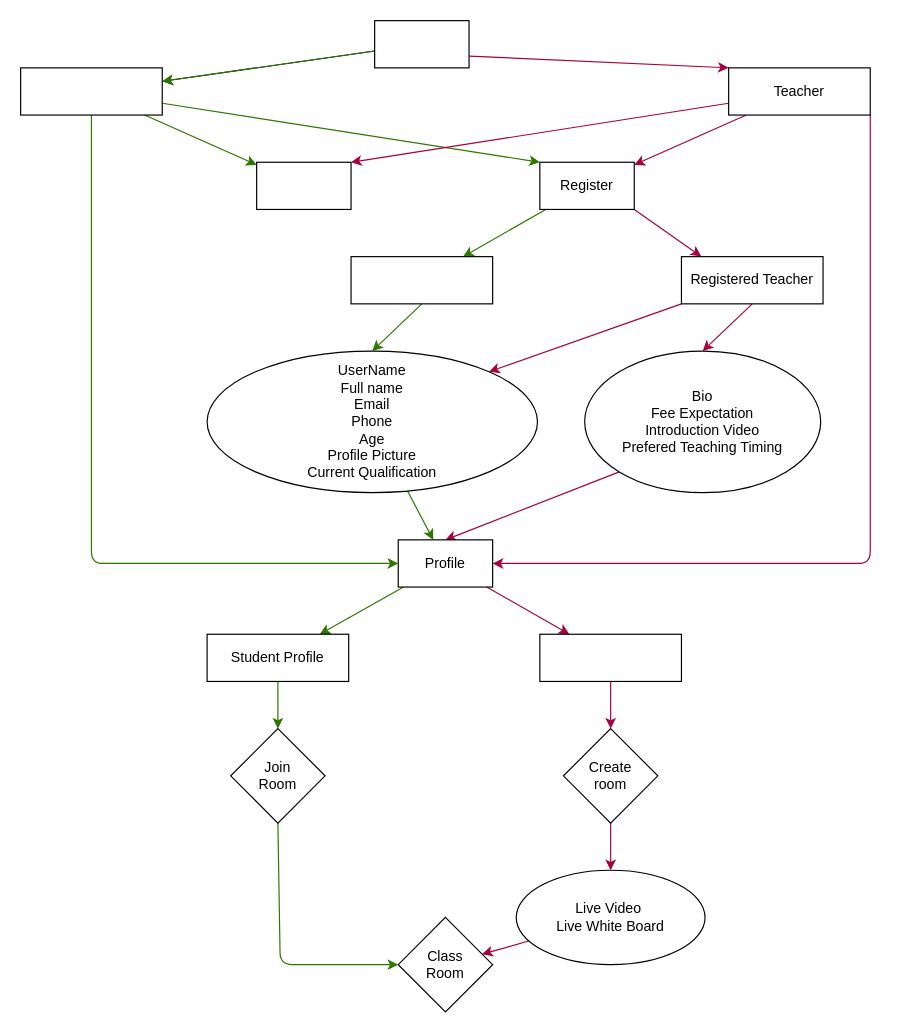
The diagram is 900 pixels wide and 1033 high, and some of its shapes have lost their labels. Here are the shapes that lost their labels. From the top down, the centre of each, then its label:
At pixel 421 43: "User".
At pixel 90 91: "Student".
At pixel 303 185: "Login".
At pixel 421 279: "Registered Student".
At pixel 610 657: "Teacher Profile".
